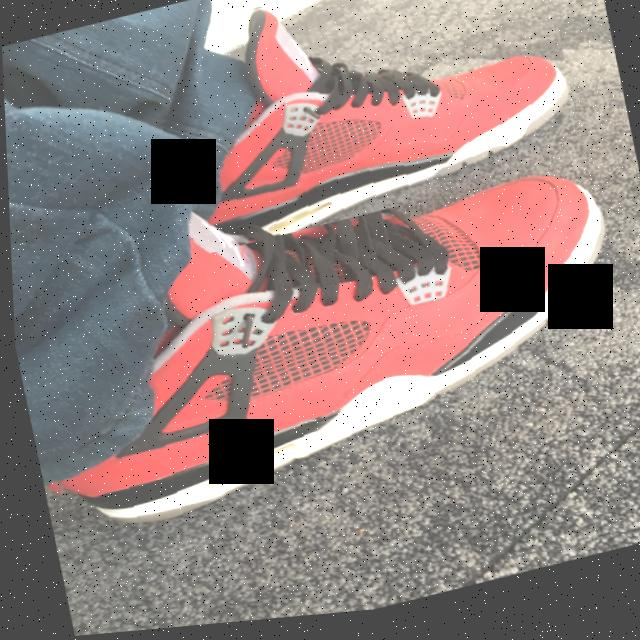shoe: (6, 122, 640, 554), (147, 0, 585, 262)
